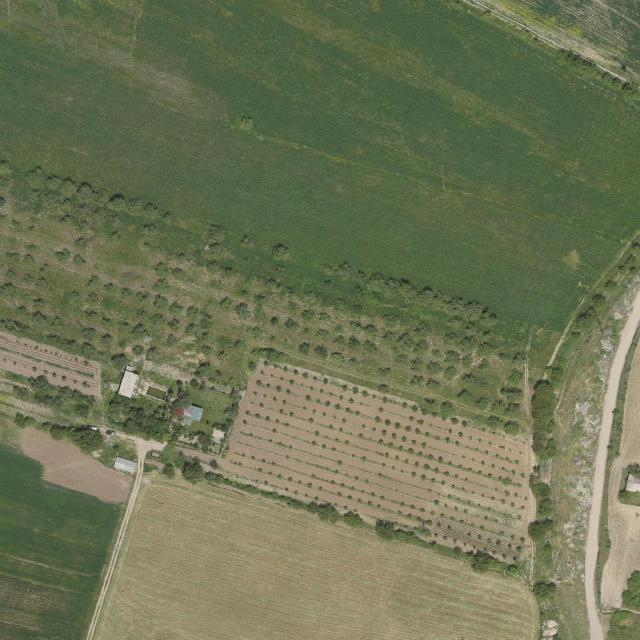agricultural_land: (218, 350, 555, 568), (144, 384, 169, 403), (211, 427, 227, 446)
building: (181, 401, 205, 423), (181, 402, 204, 423), (113, 456, 138, 473), (105, 429, 116, 436), (89, 424, 98, 430)
dryland: (8, 424, 138, 513)
greenland: (0, 449, 121, 640), (607, 571, 640, 639), (531, 380, 556, 458)
unmetalled_road: (573, 287, 640, 573)
